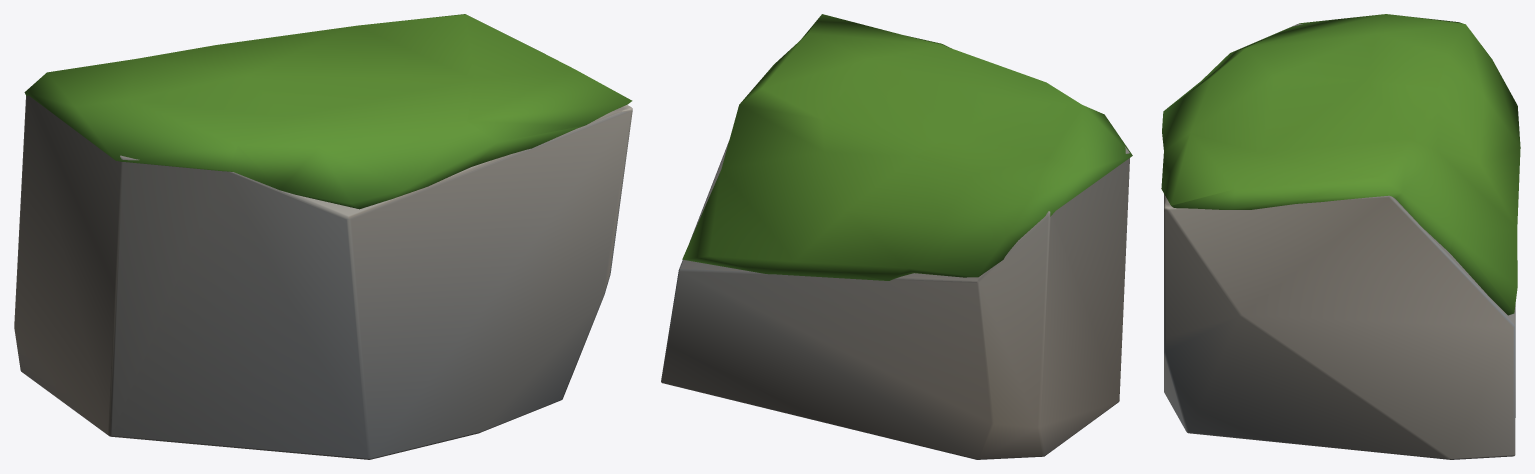
Rendered from grotto_rock_a_lod2.glb.
3 views of the same model, side by side, from view 1: azimuth 30°, elevation 25°; view 2: azimuth 150°, elevation 25°; view 3: azimuth 270°, elevation 25° (orthographic). The views are drawn at different scales.
Parts seen in each view (by area): view 1: grotto_rock_a.001, moss.001; view 2: grotto_rock_a.001, moss.001; view 3: grotto_rock_a.001, moss.001.
Part boxes in pixels (bbox=[...]): grotto_rock_a.001: bbox=[14, 95, 632, 459]; moss.001: bbox=[24, 14, 632, 209]; grotto_rock_a.001: bbox=[661, 141, 1129, 459]; moss.001: bbox=[682, 14, 1132, 280]; grotto_rock_a.001: bbox=[1164, 24, 1515, 459]; moss.001: bbox=[1161, 14, 1520, 315].
Bounding box in the file's own units: 3.58 × 2.31 × 2.86.
